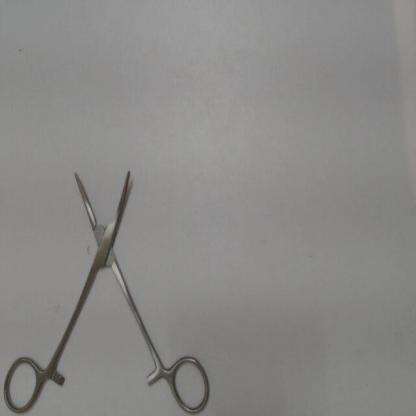Crile Artery Forceps: (0, 154, 216, 414)
